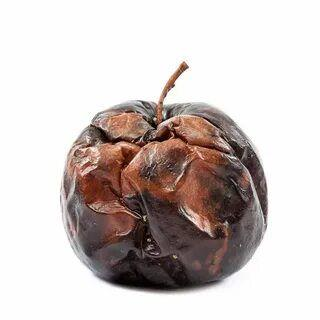Apple: (60, 102, 268, 290)
